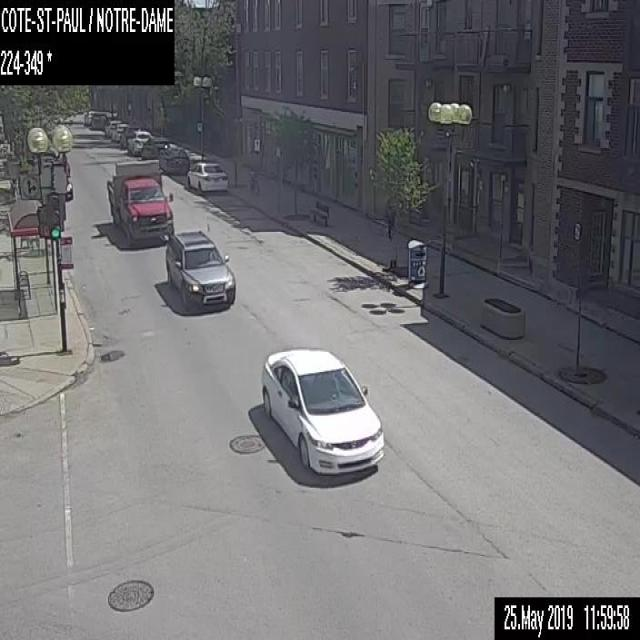pedestrian: (384, 198, 395, 239)
vehicle: (260, 347, 383, 477), (106, 158, 174, 246), (164, 230, 235, 312), (186, 161, 228, 192), (158, 146, 189, 172), (140, 136, 170, 159), (126, 130, 151, 155), (120, 126, 137, 147), (110, 123, 129, 141), (90, 111, 107, 128), (103, 120, 121, 136), (82, 110, 94, 125)
